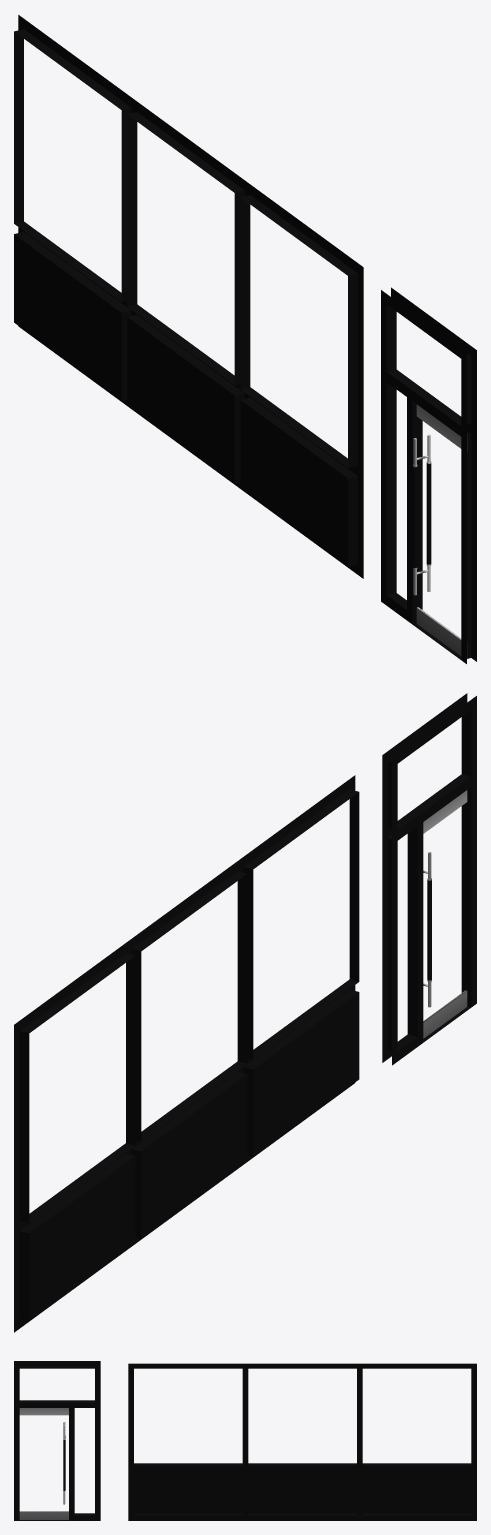
File: Main_Door.FBX
The picture shows the model from 3 angles, top to bottom: view 1: azimuth 30°, elevation 25°; view 2: azimuth 150°, elevation 25°; view 3: azimuth 270°, elevation 25°; orthographic projection. The views are drawn at different scales.
Visible parts, largest first — view 1: Wall_Left, Door_Frame, Door; view 2: Wall_Left, Door_Frame, Door; view 3: Wall_Left, Door_Frame, Door.
Boxes of the visible parts, x1=… form: Wall_Left: x1=14, y1=15, x2=363, y2=578; Door_Frame: x1=381, y1=287, x2=476, y2=663; Door: x1=413, y1=404, x2=467, y2=658; Wall_Left: x1=14, y1=775, x2=359, y2=1332; Door_Frame: x1=382, y1=693, x2=476, y2=1065; Door: x1=423, y1=790, x2=467, y2=1038; Wall_Left: x1=128, y1=1363, x2=476, y2=1520; Door_Frame: x1=14, y1=1361, x2=100, y2=1520; Door: x1=19, y1=1408, x2=68, y2=1519.
Bounding box in the file's own units: 18 × 300 × 800.
